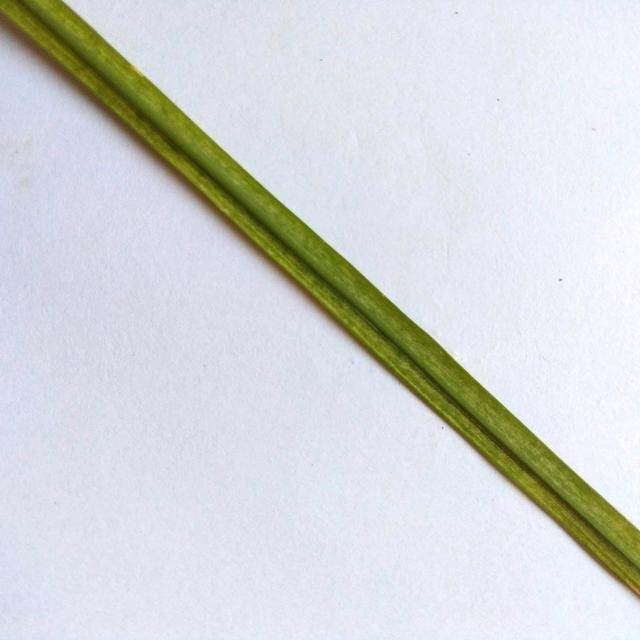Rice_Healthy: (0, 0, 640, 592)
